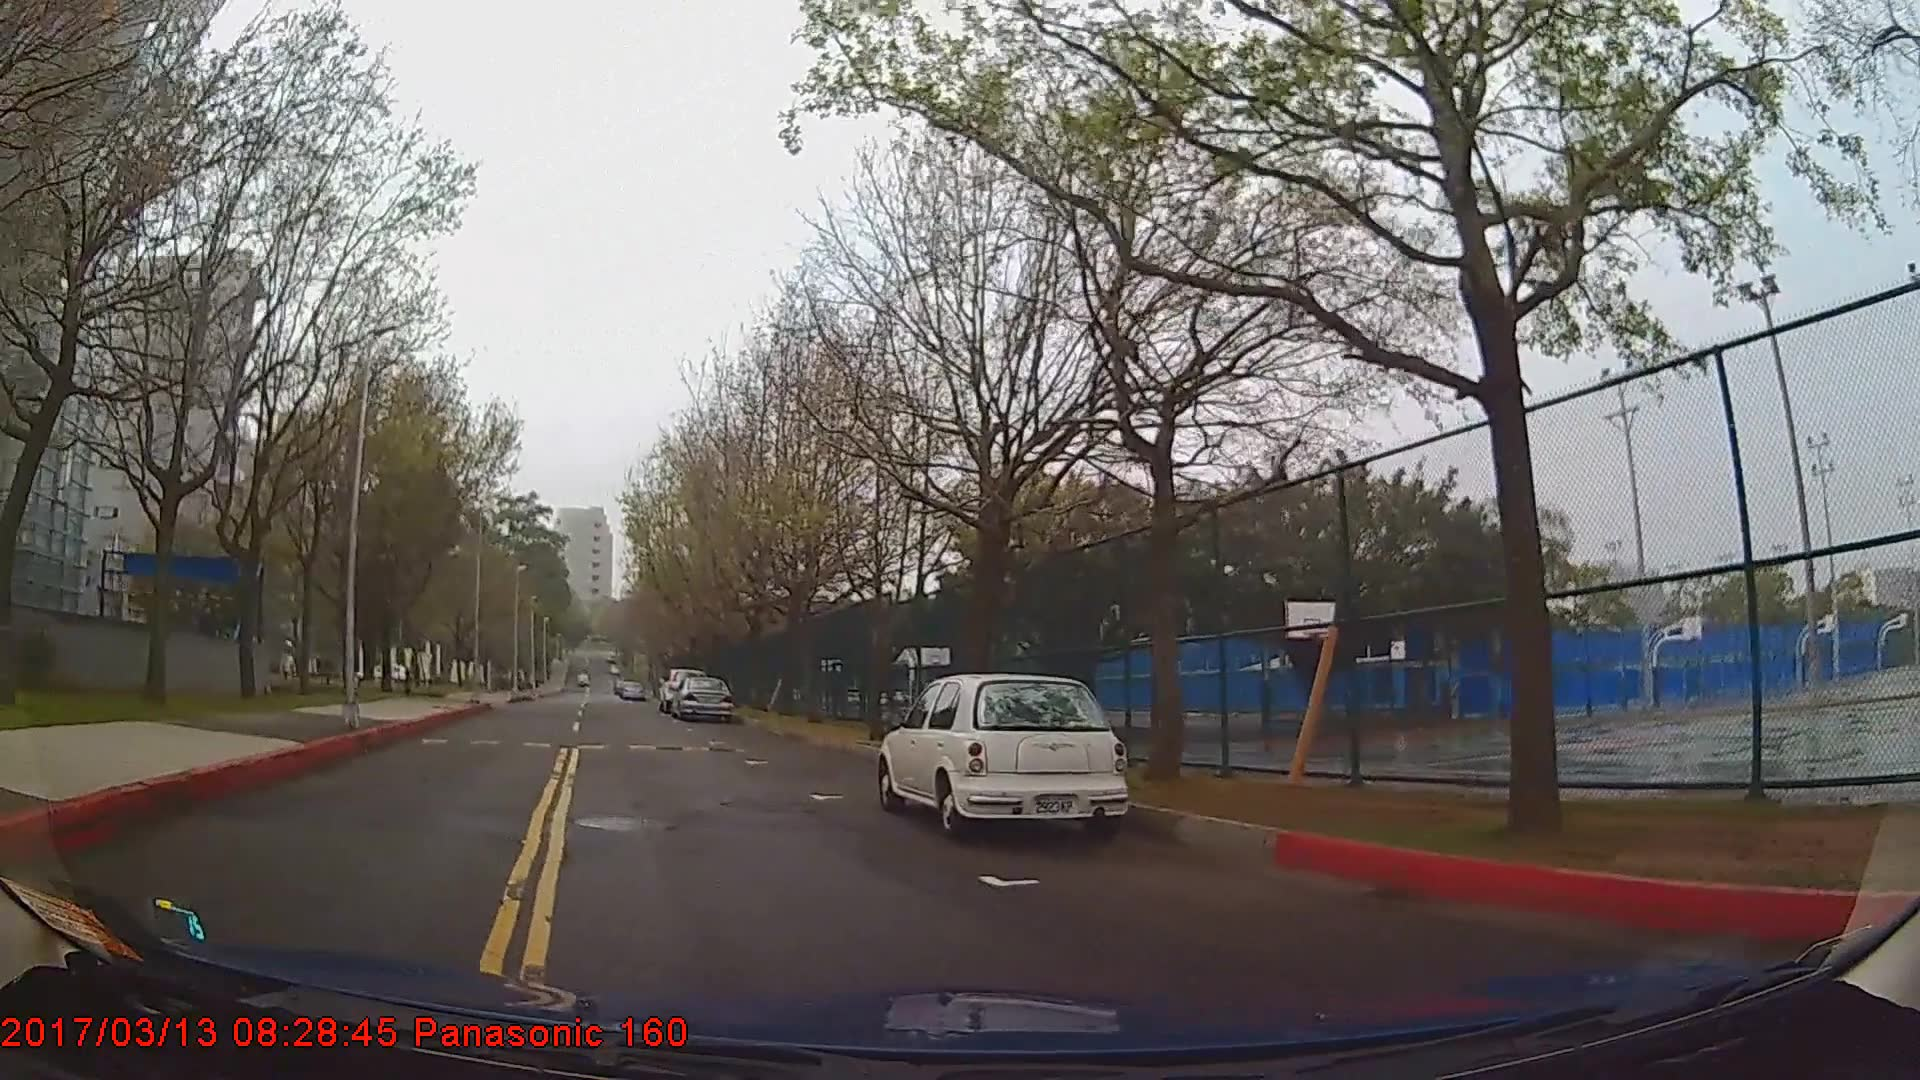vehicle: (873, 671, 1129, 836), (673, 674, 735, 715)
